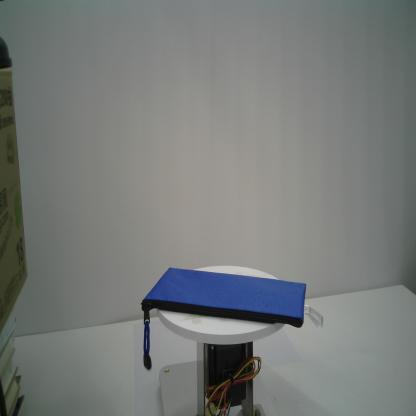Stationery: (139, 264, 324, 372)
